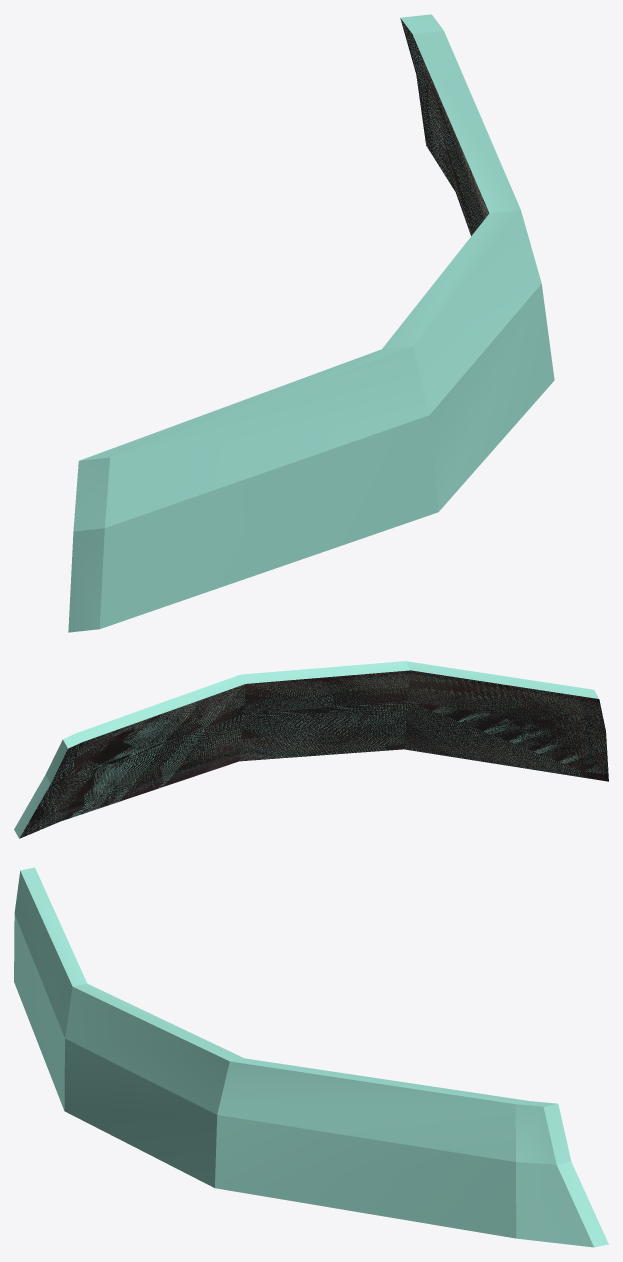
The model's file is SampleCar_01_Indicator_RR.fbx.
The picture shows the model from 3 angles, top to bottom: view 1: azimuth 30°, elevation 25°; view 2: azimuth 150°, elevation 25°; view 3: azimuth 270°, elevation 25°; orthographic projection. The views are drawn at different scales.
Visible parts, largest first — view 1: UTM_glass_004, glass_004_LOD0; view 2: glass_004_LOD0, UTM_glass_004; view 3: UTM_glass_004.
Boxes of the visible parts, x1,y1,x2,y2 form: UTM_glass_004: (68,14,554,632); glass_004_LOD0: (400,18,489,235); glass_004_LOD0: (19,670,608,838); UTM_glass_004: (14,661,607,838); UTM_glass_004: (14,867,608,1247).
Size of the model in its own units: 24.64 by 5.22 by 22.77.
